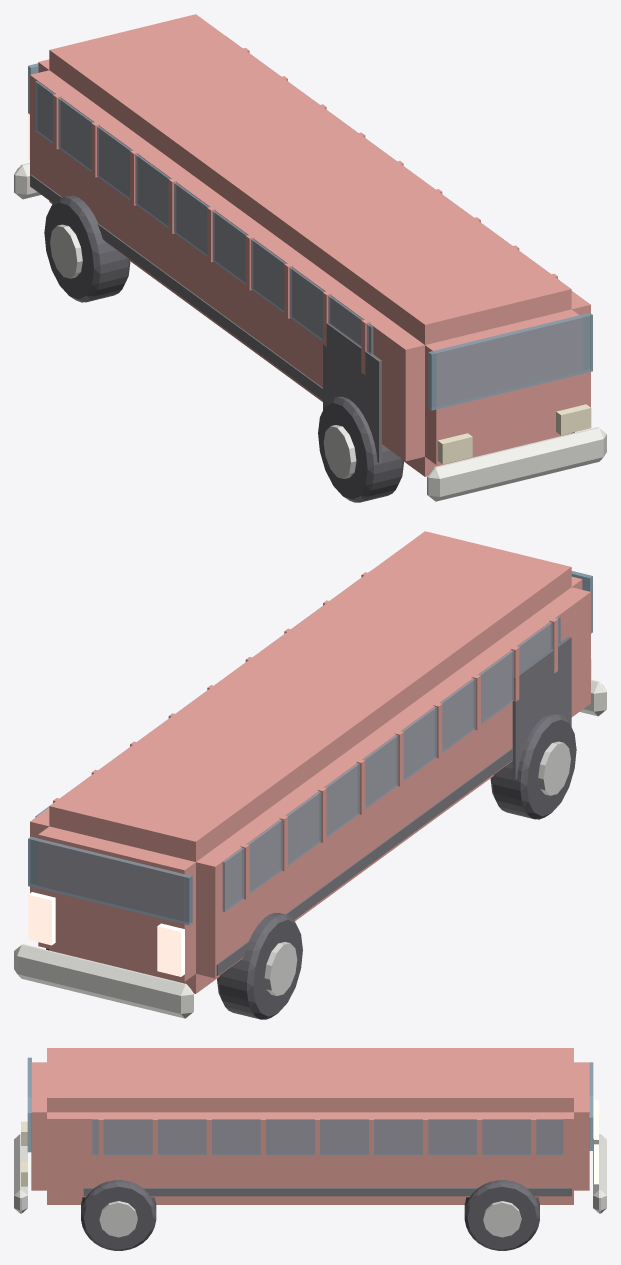
Rendered from Vehicle_Bus_A.fbx.
3 views of the same model, one above another, from view 1: azimuth 30°, elevation 25°; view 2: azimuth 150°, elevation 25°; view 3: azimuth 270°, elevation 25° (orthographic). The views are drawn at different scales.
Visible parts, largest first — view 1: Vehicle_Bus_A; view 2: Vehicle_Bus_A; view 3: Vehicle_Bus_A.
Boxes of the visible parts, x1,y1,x2,y2 form: Vehicle_Bus_A: [14, 14, 606, 502]; Vehicle_Bus_A: [14, 531, 606, 1019]; Vehicle_Bus_A: [14, 1048, 606, 1250].
Size of the model in its own units: 2.04 by 1.82 by 6.8.
